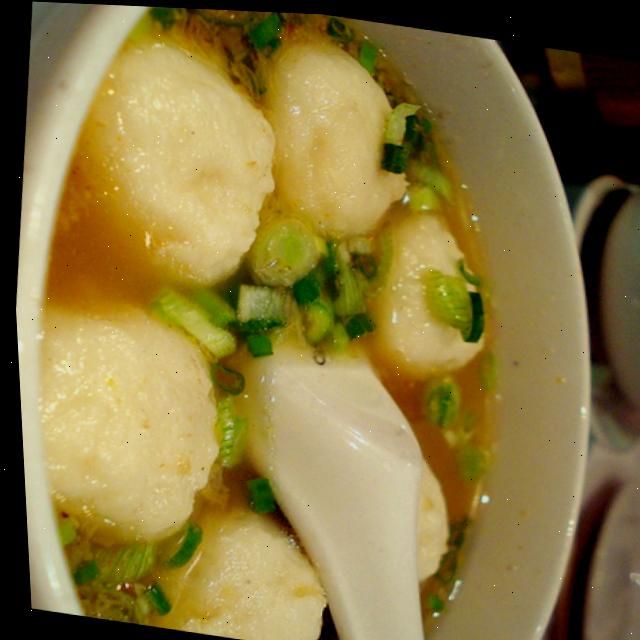熟制海鲜: (0, 0, 636, 640)
